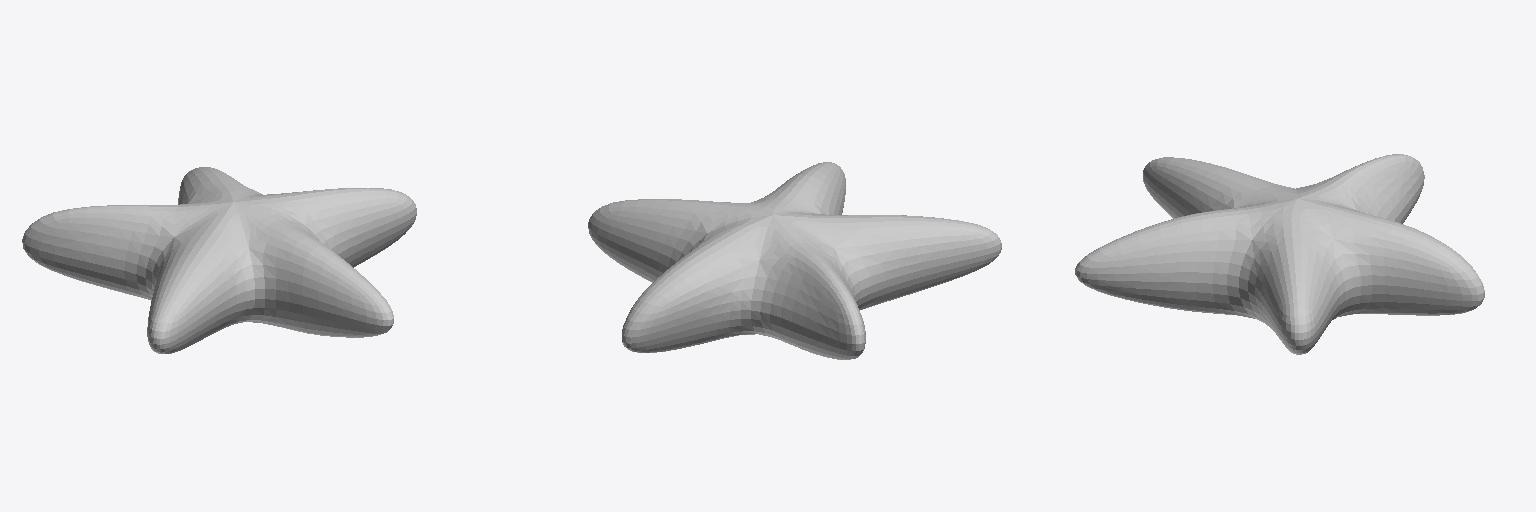
Rendered from _star.obj.
3 renders of one model, left to right at view 1: azimuth 30°, elevation 25°; view 2: azimuth 150°, elevation 25°; view 3: azimuth 270°, elevation 25°, orthographic.
Parts seen in each view (by area): view 1: Starfish_1; view 2: Starfish_1; view 3: Starfish_1.
Part boxes in pixels (left/top/right/bottom): Starfish_1: left=22, top=167, right=416, bottom=353; Starfish_1: left=588, top=162, right=1001, bottom=359; Starfish_1: left=1075, top=154, right=1484, bottom=354.
Size of the model in its own units: 1.99 by 0.5713 by 2.09.